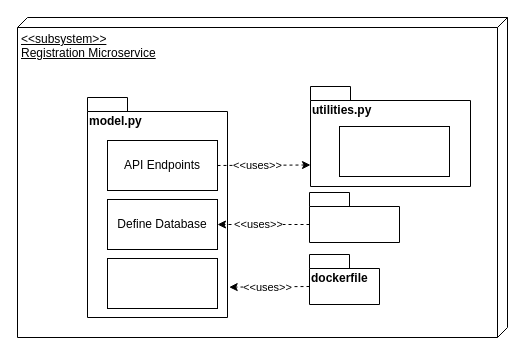
The diagram is 525 pixels wide and 355 high, and some of its shapes have lost their labels. The shapes that lost their labels are listed below. From the top down, each one's centre as x and y in pixels, then its label:
(x=394, y=151): Helper Methods
(x=354, y=217): config.py
(x=162, y=283): Setup Application
